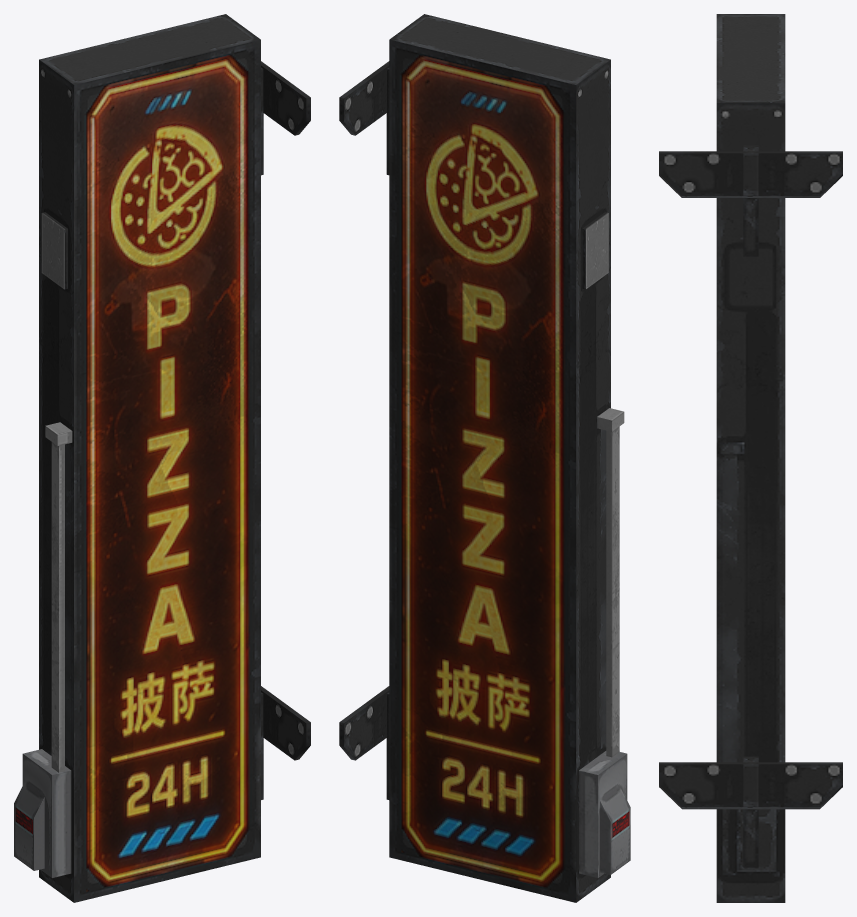
The model's file is CP_Signboard_01.fbx.
The picture shows the model from 3 angles, left to right: view 1: azimuth 30°, elevation 25°; view 2: azimuth 150°, elevation 25°; view 3: azimuth 270°, elevation 25°; orthographic projection. The views are drawn at different scales.
Visible parts, largest first — view 1: CP_Signboard_01; view 2: CP_Signboard_01; view 3: CP_Signboard_01.
Part boxes in pixels (x1,y1,x2,y2): CP_Signboard_01: [14, 14, 310, 902]; CP_Signboard_01: [339, 14, 630, 902]; CP_Signboard_01: [659, 14, 842, 902].
Bounding box in the file's own units: 106 × 349 × 72.71.
